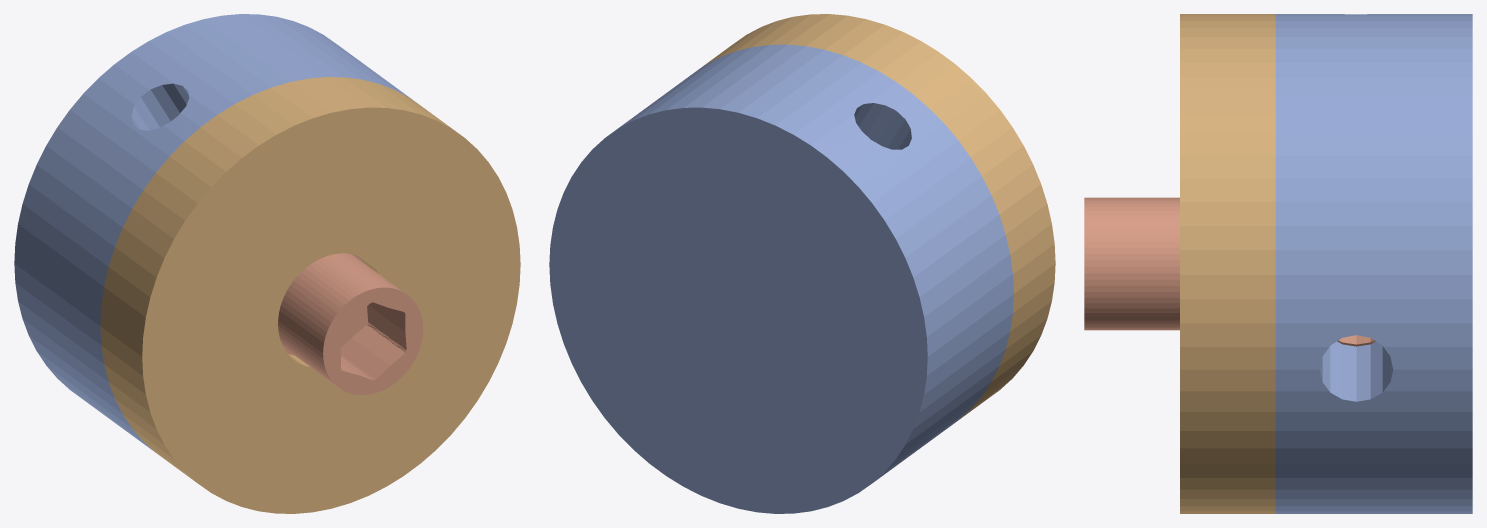
The model's file is rotary_spool_valve_demo.glb.
3 renders of one model, left to right at view 1: azimuth 30°, elevation 25°; view 2: azimuth 150°, elevation 25°; view 3: azimuth 270°, elevation 25°, orthographic. The views are drawn at different scales.
Parts seen in each view (by area): view 1: spool_valve_cap, spool_valve_body, spool_valve_plug; view 2: spool_valve_body, spool_valve_cap; view 3: spool_valve_body, spool_valve_cap, spool_valve_plug.
Part boxes in pixels (box(x1,y1,x2,y2)): spool_valve_cap: box(100, 77, 520, 513); spool_valve_body: box(14, 14, 416, 451); spool_valve_plug: box(278, 253, 423, 394); spool_valve_body: box(549, 44, 1013, 513); spool_valve_cap: box(698, 14, 1055, 419); spool_valve_body: box(1275, 14, 1472, 513); spool_valve_cap: box(1180, 14, 1275, 513); spool_valve_plug: box(1084, 197, 1375, 346).
Bounding box in the file's own units: 34 × 34 × 26.4.
